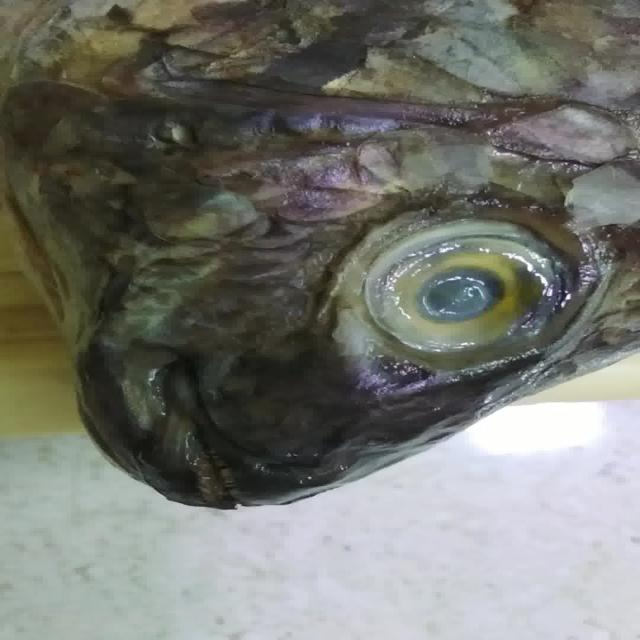Non-Fresh: (338, 203, 575, 377)
